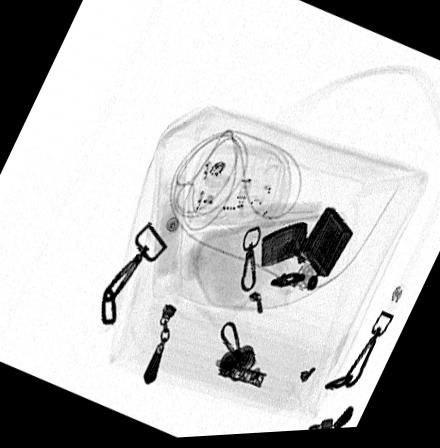Lighter: (259, 210, 352, 295)
